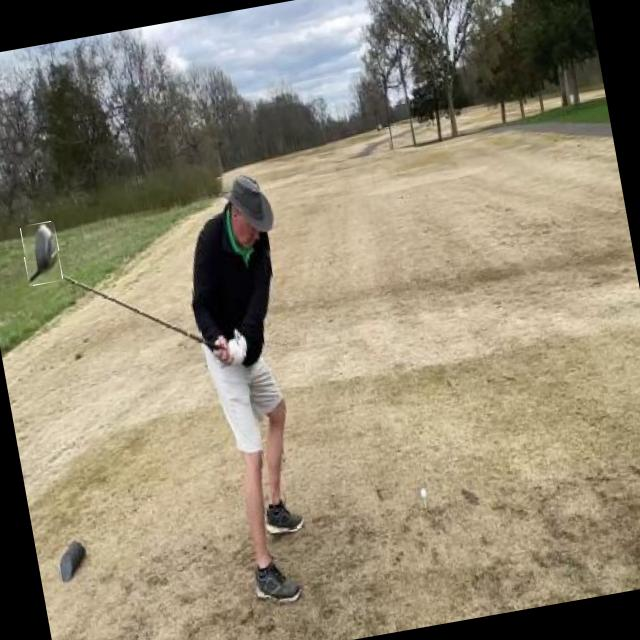club head: (19, 221, 63, 286)
